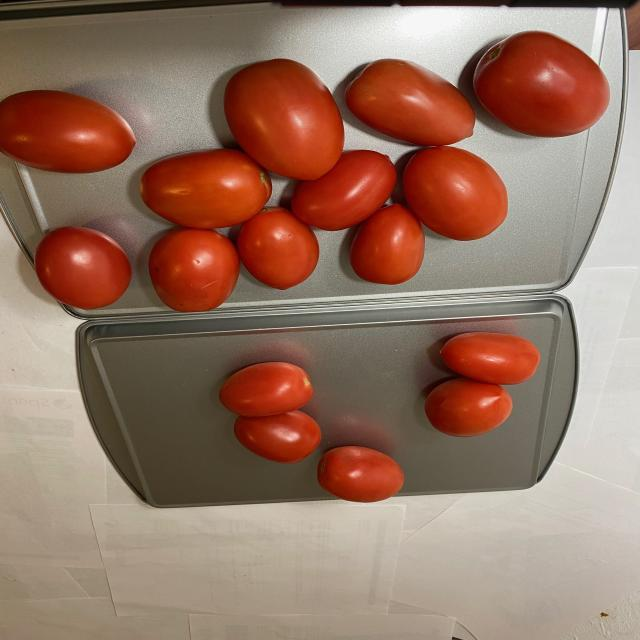tomato: (3, 29, 615, 308), (218, 333, 550, 505)
